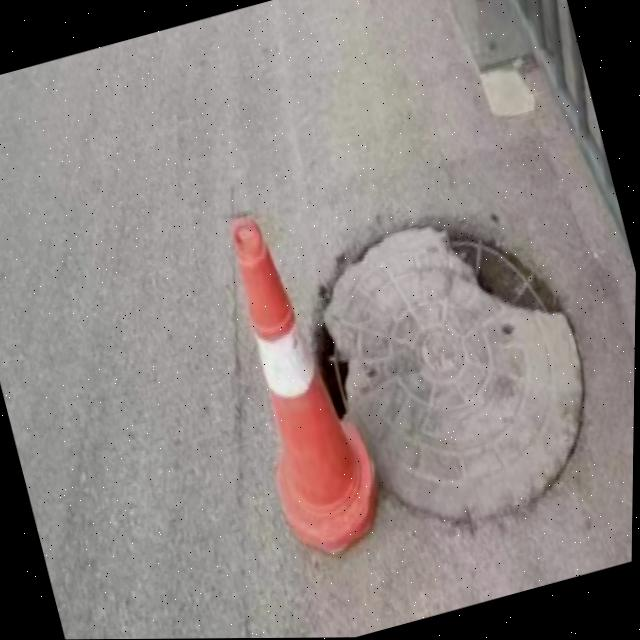manhole: (271, 165, 620, 561)
